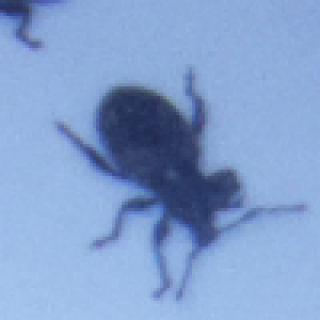bvw: (53, 65, 308, 302)
